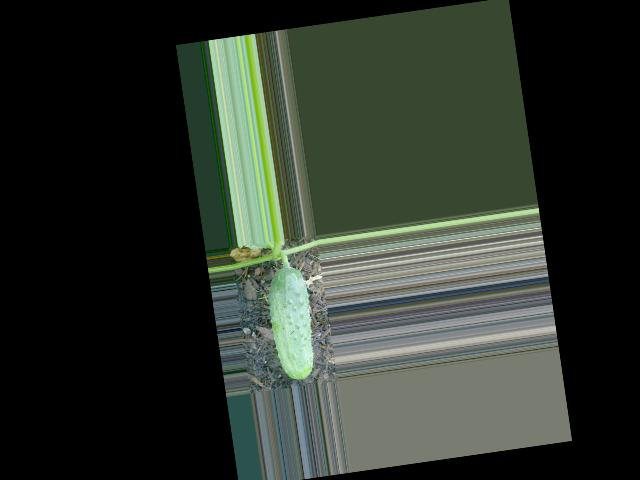cucumber: (263, 265, 320, 383)
